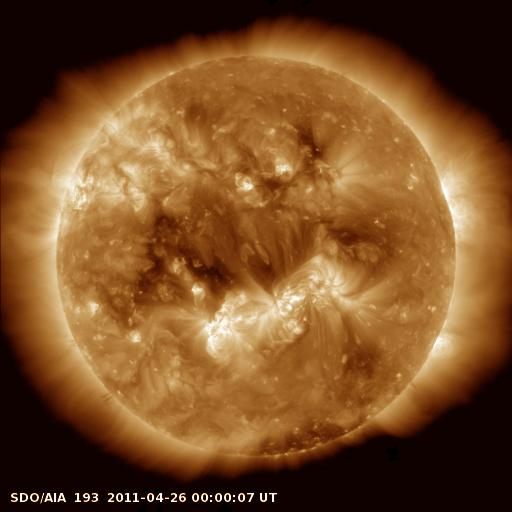coronal_hole: (248, 419, 366, 471), (285, 116, 331, 169)
